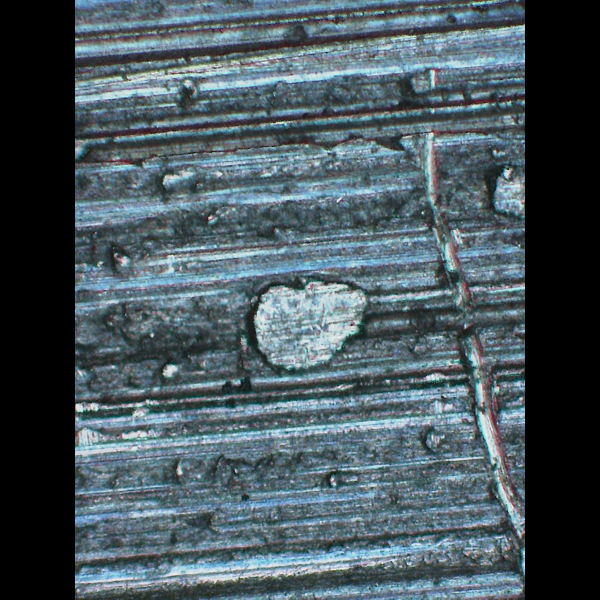d: (407, 66, 524, 556), (237, 273, 379, 380)
